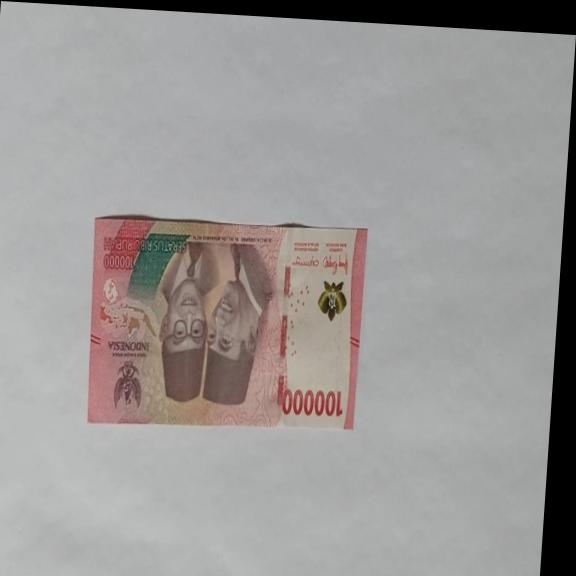Kertas: (80, 210, 367, 439), (278, 384, 344, 421)
